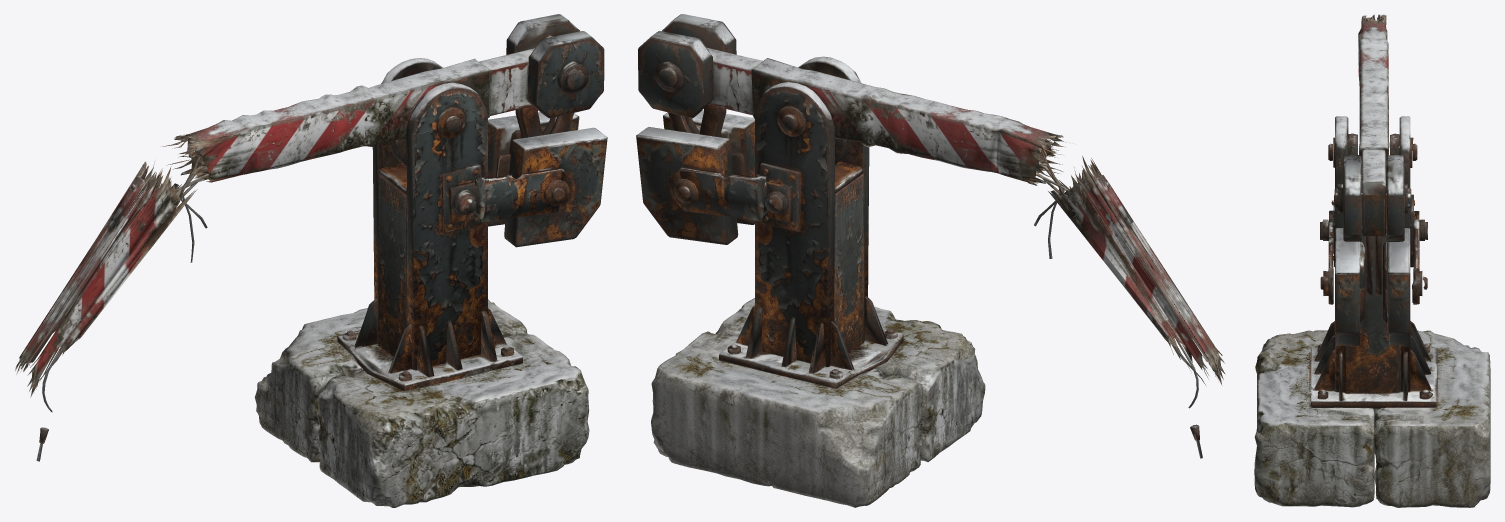
Rendered from road_barrier.glb.
3 renders of one model, left to right at view 1: azimuth 30°, elevation 25°; view 2: azimuth 150°, elevation 25°; view 3: azimuth 270°, elevation 25°, orthographic. The views are drawn at different scales.
Size of the model in its own units: 0.9502 by 0.6089 by 0.3657.
Materials: 1 (1 with a texture image).
